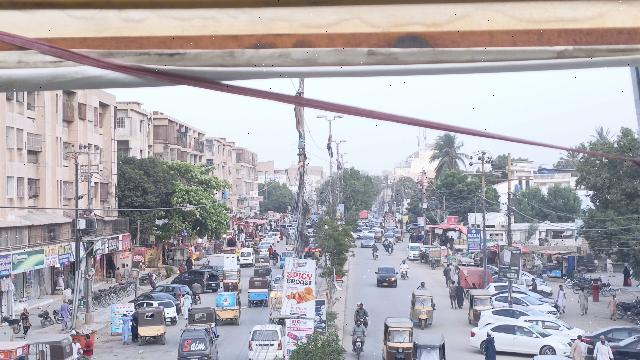Bike: (351, 334, 366, 358), (357, 315, 368, 325)
Car: (470, 321, 571, 355), (247, 324, 285, 360), (375, 265, 399, 287)
Person: (592, 334, 615, 360), (58, 297, 74, 332), (481, 329, 498, 360), (569, 333, 587, 360), (552, 282, 568, 312), (576, 285, 590, 318), (606, 291, 619, 324), (445, 279, 457, 312), (20, 305, 32, 338), (350, 318, 368, 338), (82, 333, 95, 360), (455, 280, 466, 310), (356, 303, 368, 315)
Rickshaw: (380, 316, 414, 360), (138, 307, 169, 346), (465, 288, 493, 327), (413, 330, 447, 360), (410, 289, 436, 328), (214, 291, 242, 326), (246, 276, 270, 308), (184, 307, 217, 328), (221, 267, 243, 293)
Van: (176, 322, 221, 360)
